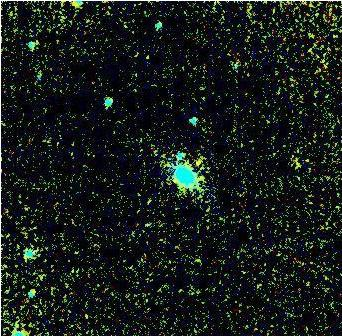star: (183, 147, 213, 177)
